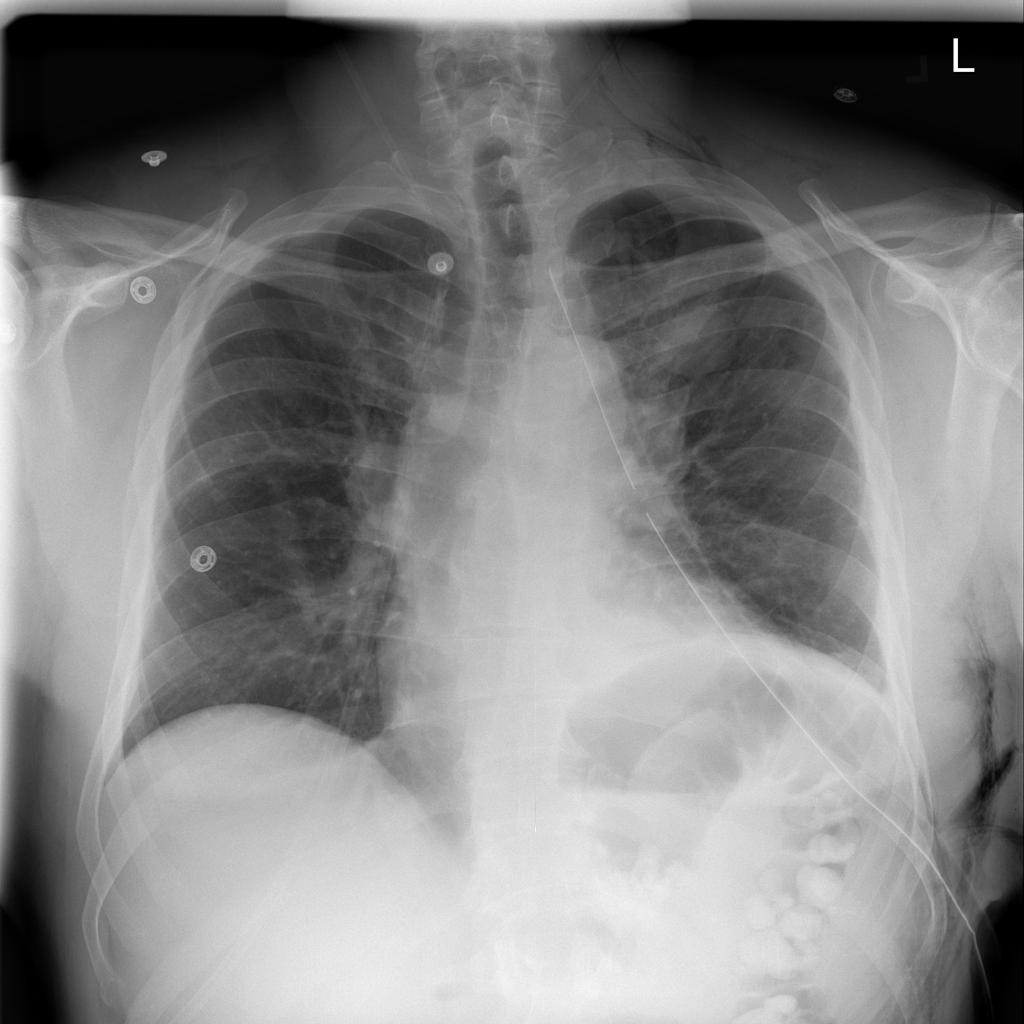nodule: (646, 283, 754, 394)
